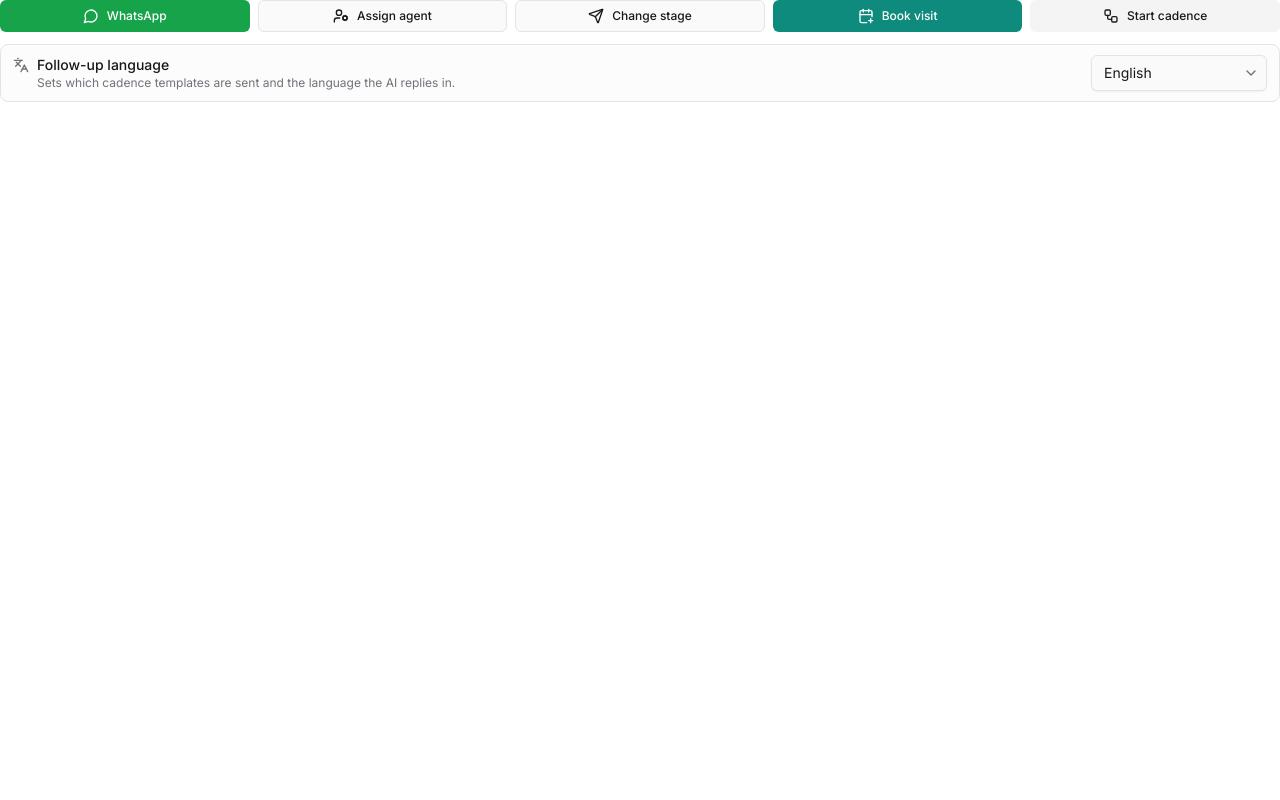
Test: start cadence › clears the no-cadence notice on the next attempt
This screenshot has width=1280, height=800.
Click the button "Start cadence" at (1155, 16), box [1030, 0, 1279, 32]
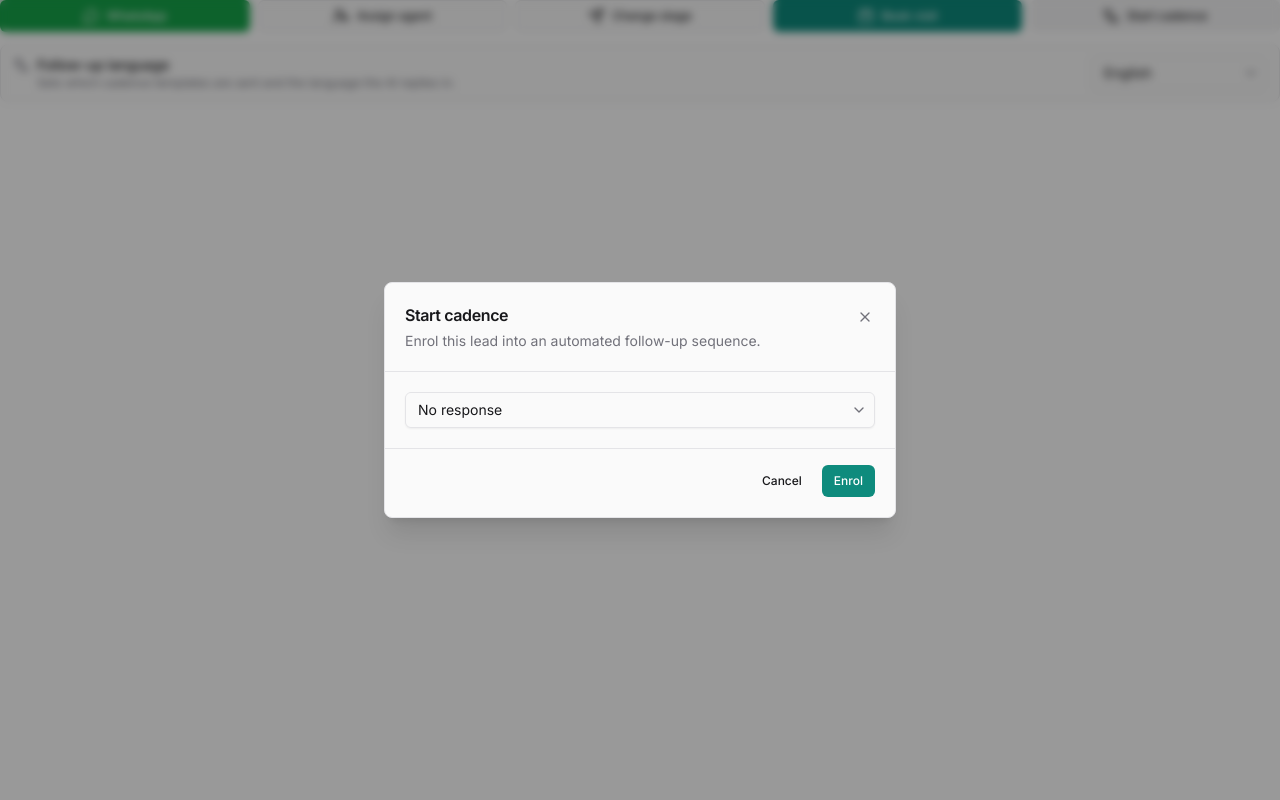
Click the button "Enrol" at (848, 481), box [822, 465, 875, 497]
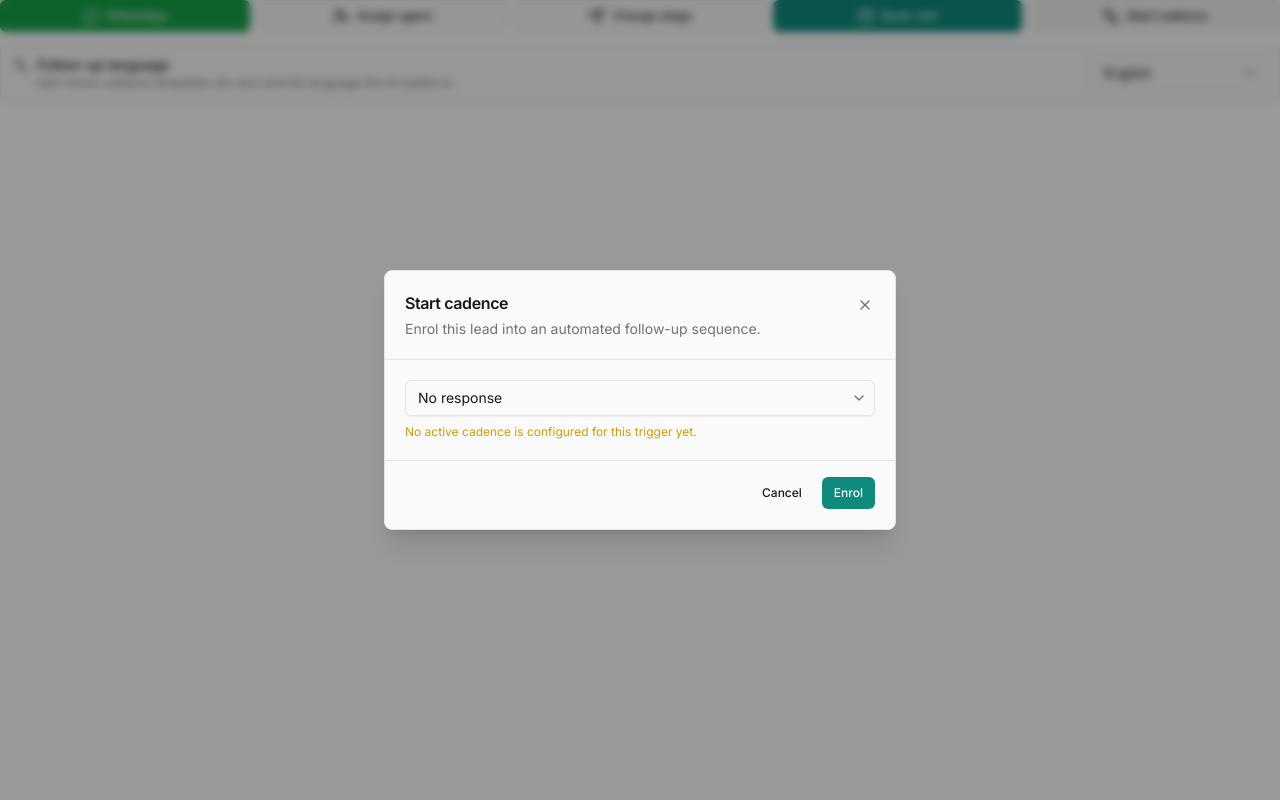
Expected: the text "No active cadence is configured for this trigger yet." is shown, [405, 424, 697, 439]
Select "Dormant reactivation" in the dropdown named "cadence trigger" at (640, 398), box [405, 380, 875, 416]
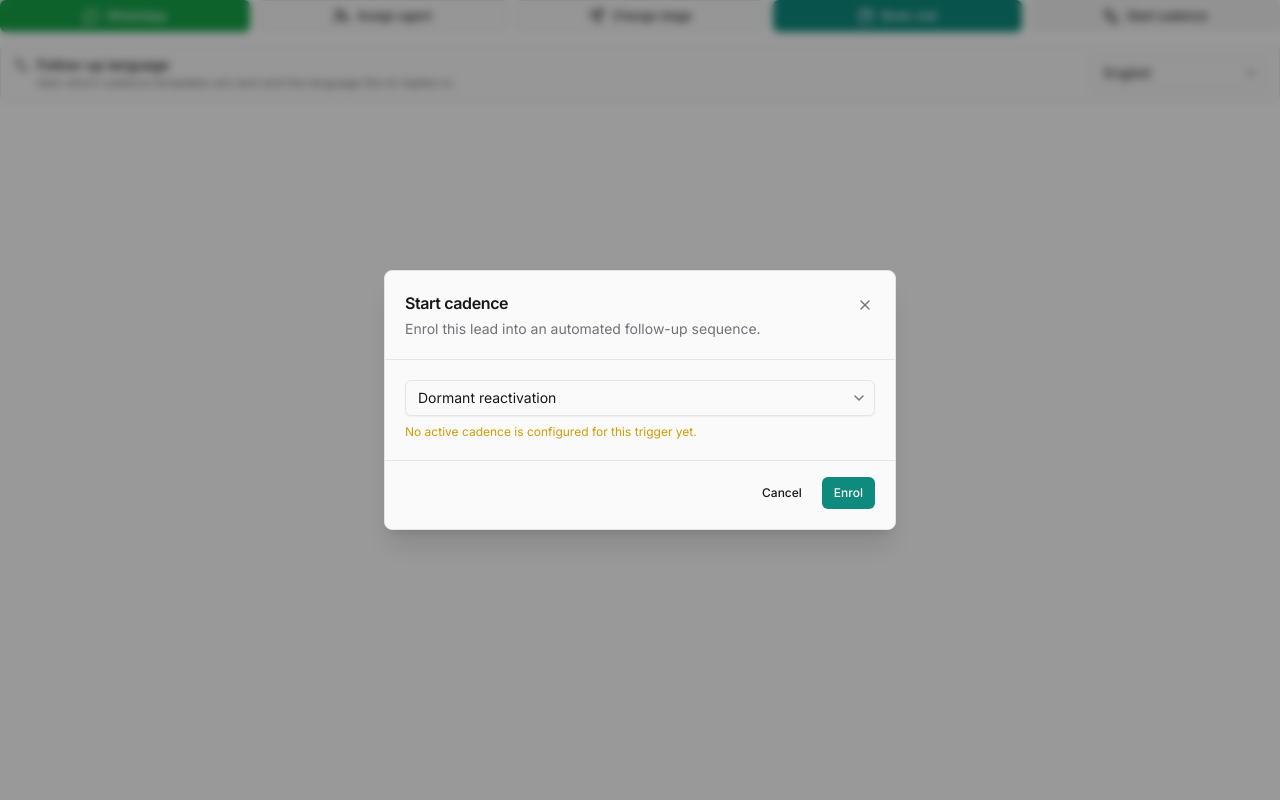
Click the button "Enrol" at (848, 493), box [822, 477, 875, 509]
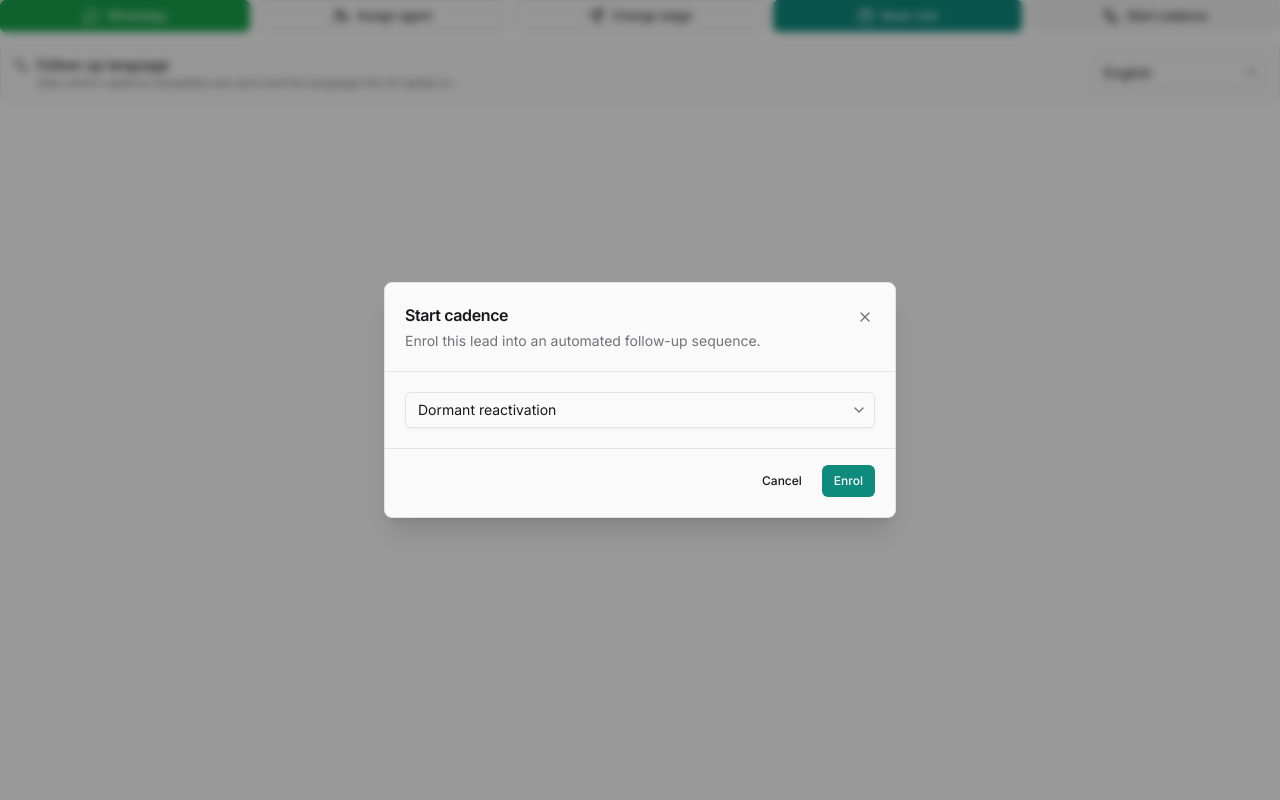
Expected: the text "No active cadence is configured" is gone
